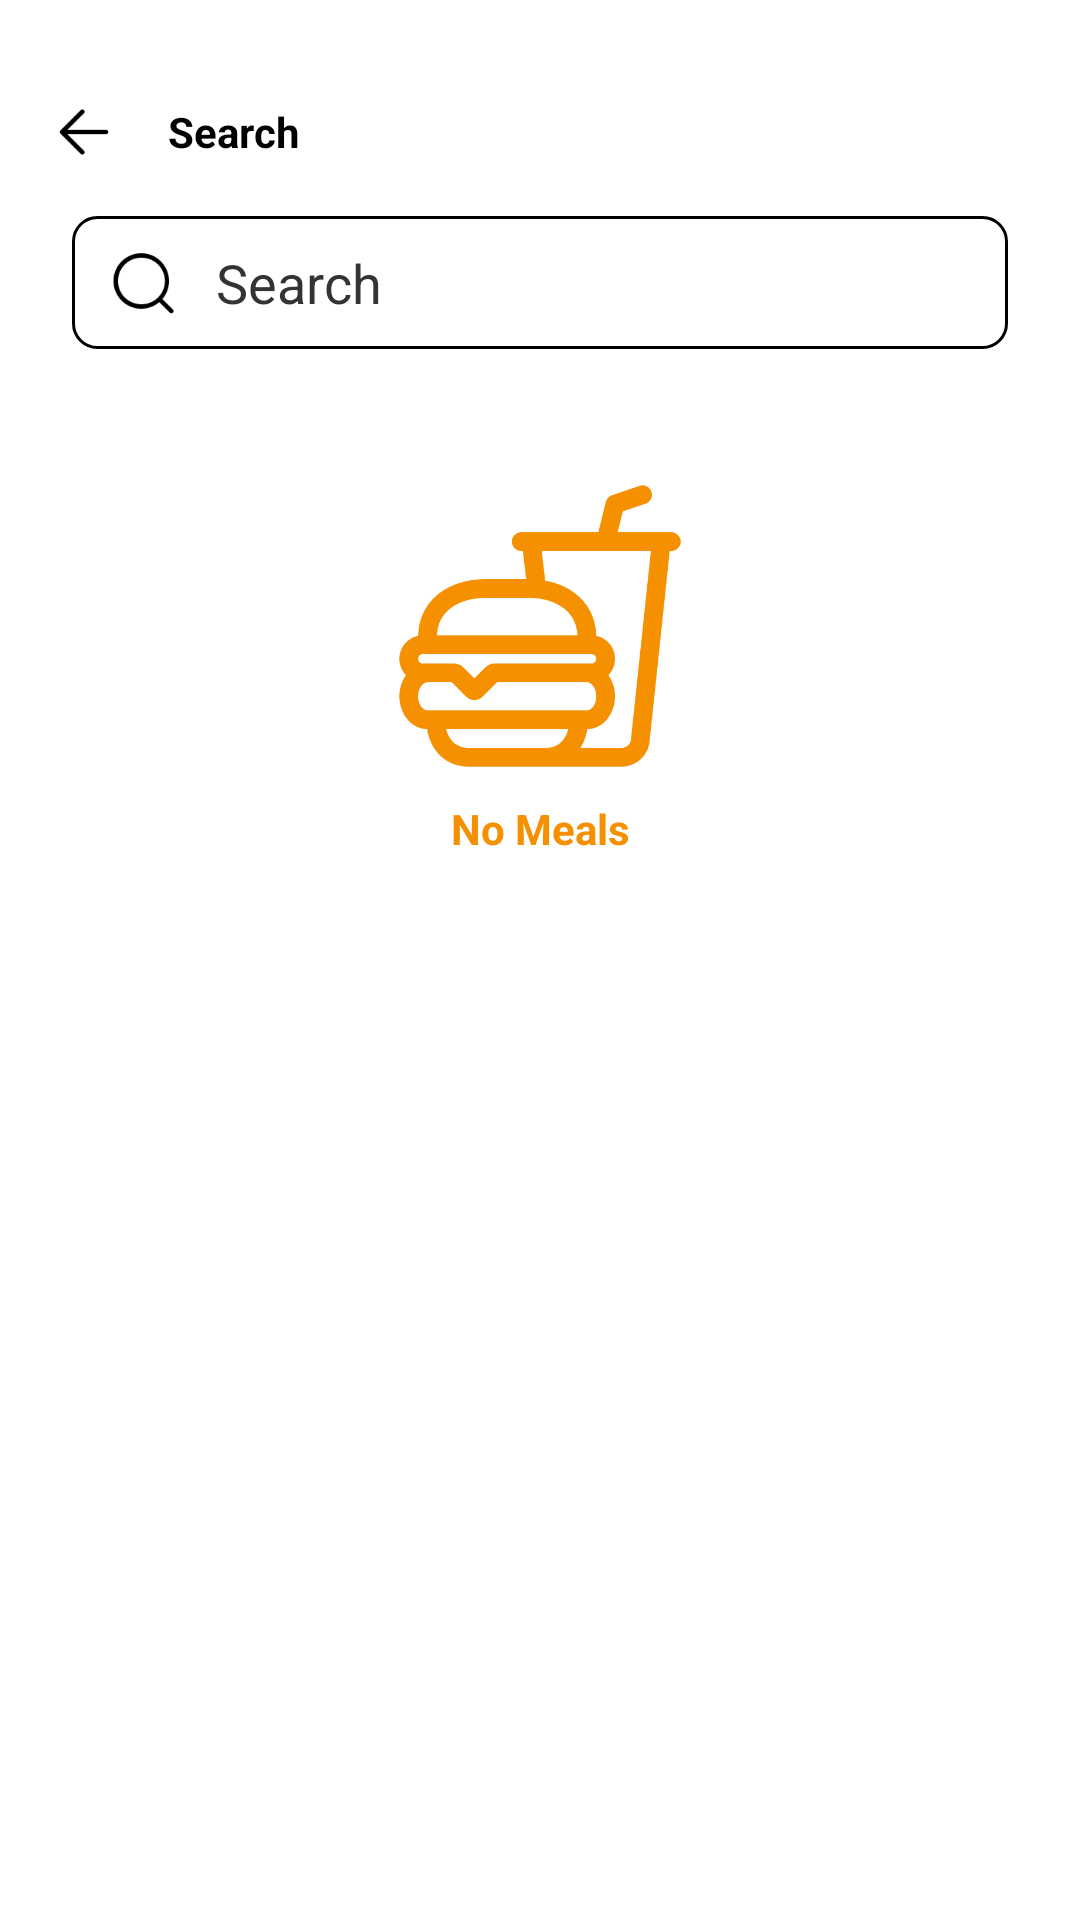

Icons on this 1080×1920 Android screen, each with its box as (left=x1, top=y1, right=x2, bottom=y2):
back arrow: (left=59, top=109, right=109, bottom=155)
